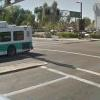Bus: (1, 13, 34, 59)
